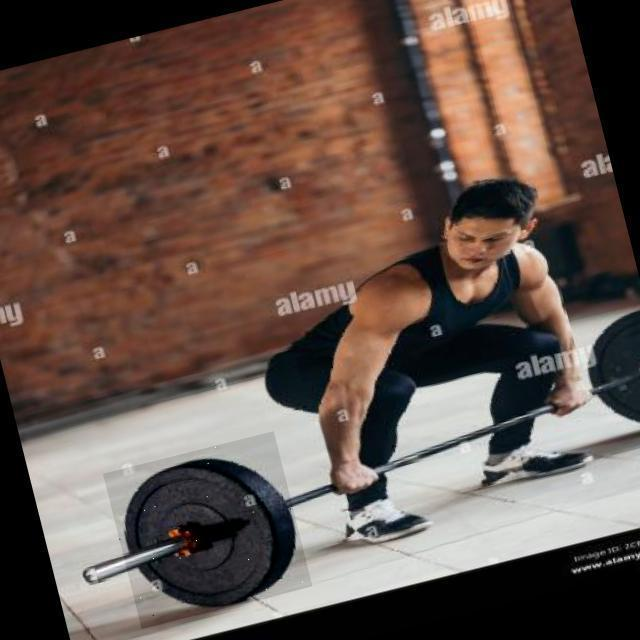barbell: (104, 432, 313, 630)
